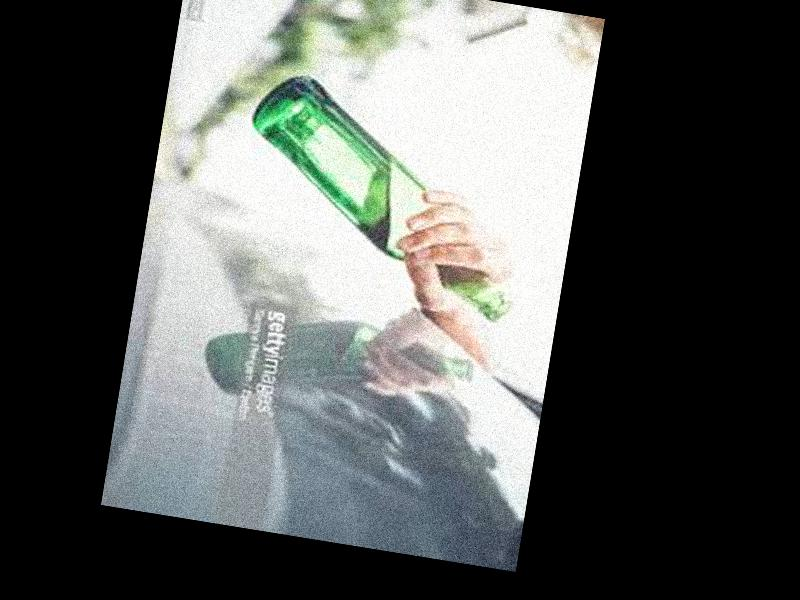Beer: (225, 70, 540, 327)
